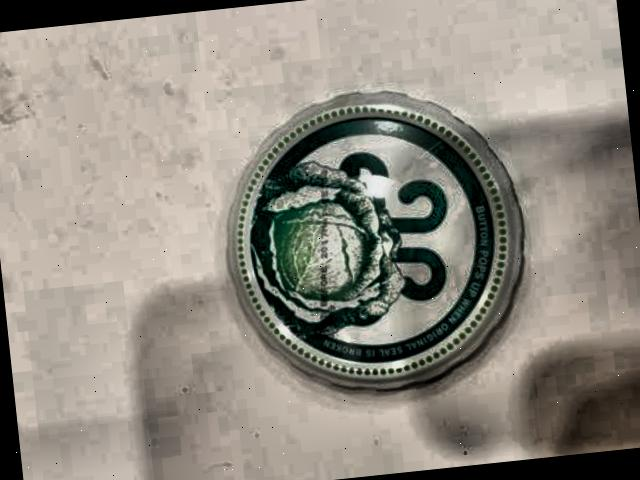Almennt: (203, 60, 552, 431)
